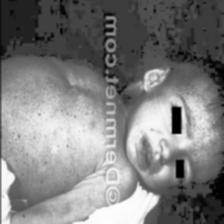Unclassified: (0, 70, 104, 203), (188, 91, 218, 172)
